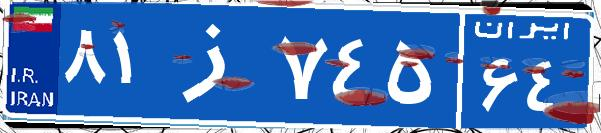1: (110, 28, 158, 105)
4: (330, 28, 385, 110), (525, 38, 570, 115)
5: (385, 28, 445, 110)
6: (475, 38, 525, 113)
7: (273, 28, 330, 110)
8: (57, 26, 110, 107)
ز: (158, 15, 273, 115)
